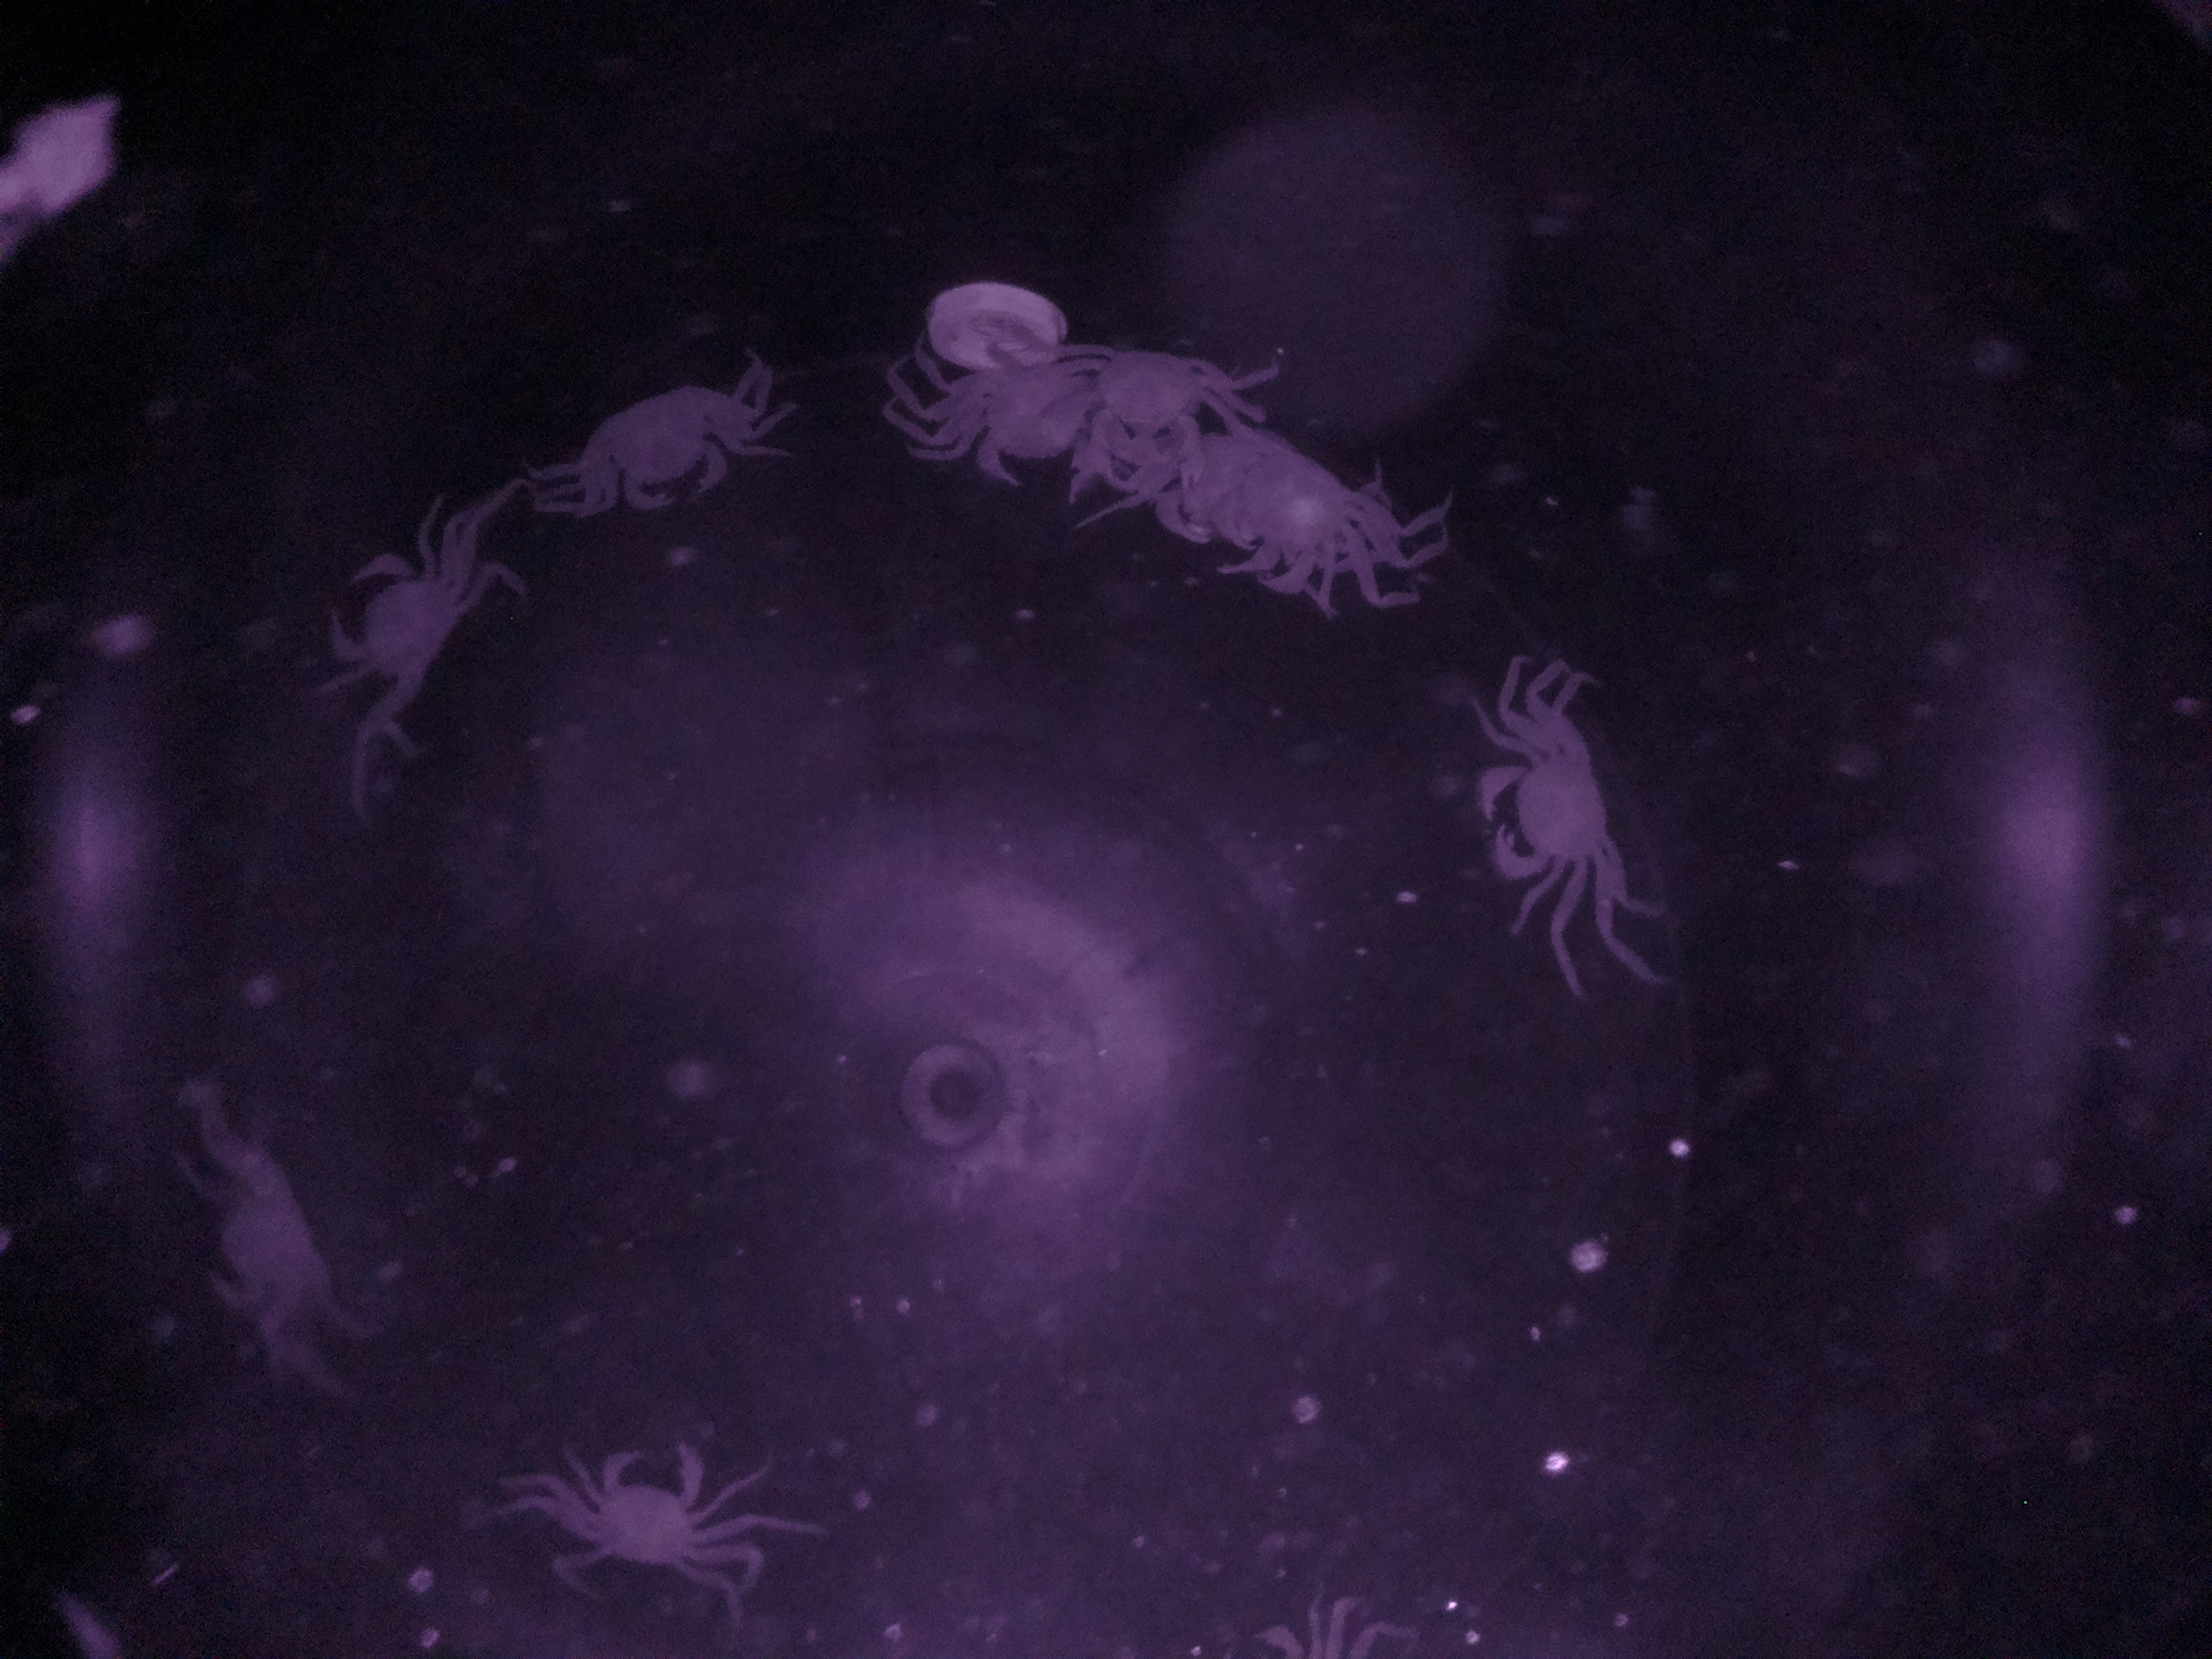Crab: (1465, 701, 1646, 927), (552, 366, 773, 533), (547, 1420, 745, 1586), (303, 540, 474, 711)
